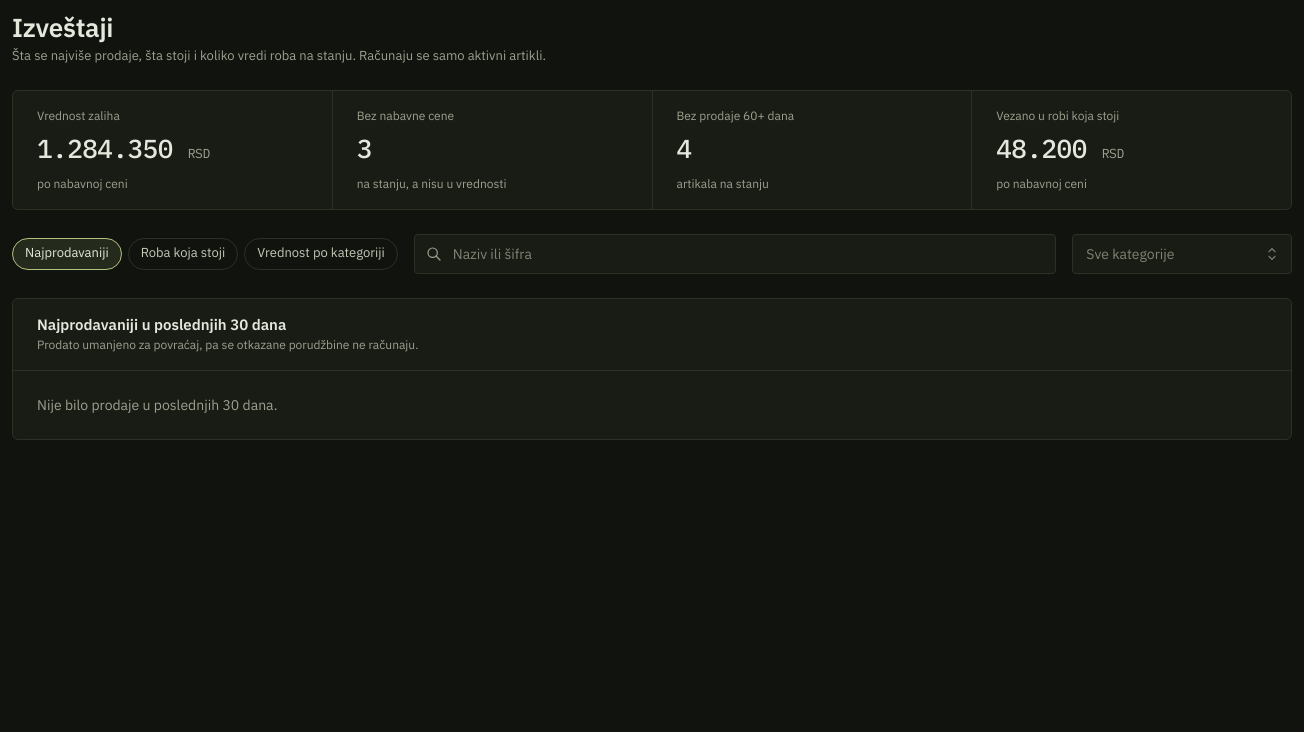
Test case: ReportsPage › ChooseReport_SlowMovers_LoadsThemAndShowsItemsNeverSold
This screenshot has width=1304, height=732.
Expected: the text "Nije bilo prodaje u poslednjih 30 dana." is shown, [37,396,278,414]
Click the button "Roba koja stoji": {"x": 183, "y": 254} [128,238,238,270]
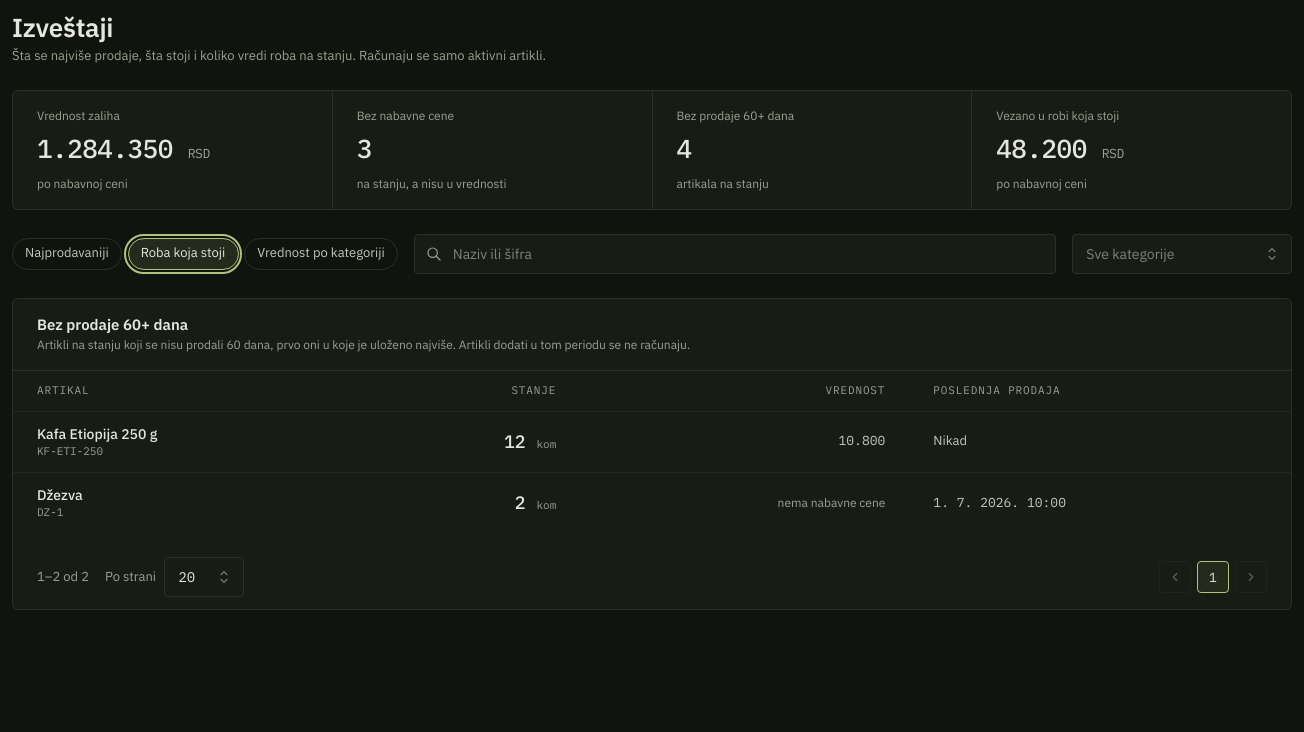
Expected: the text "Bez nabavne cene" is shown, [357,108,454,123]
Expected: the text "Nikad" is shown, [933,432,967,449]
Expected: the text "10.800" is shown, [838,432,885,449]
